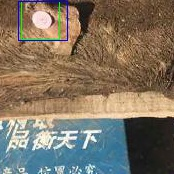text: (21, 1, 59, 39)
